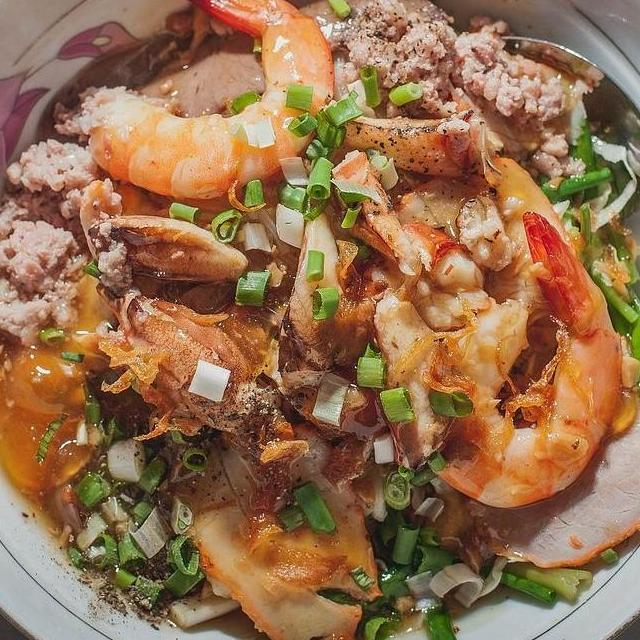thit bam: (335, 0, 596, 193), (0, 85, 142, 350)
thit heo: (150, 403, 387, 640), (451, 347, 640, 576)
tom: (382, 196, 632, 518), (68, 0, 339, 215)
